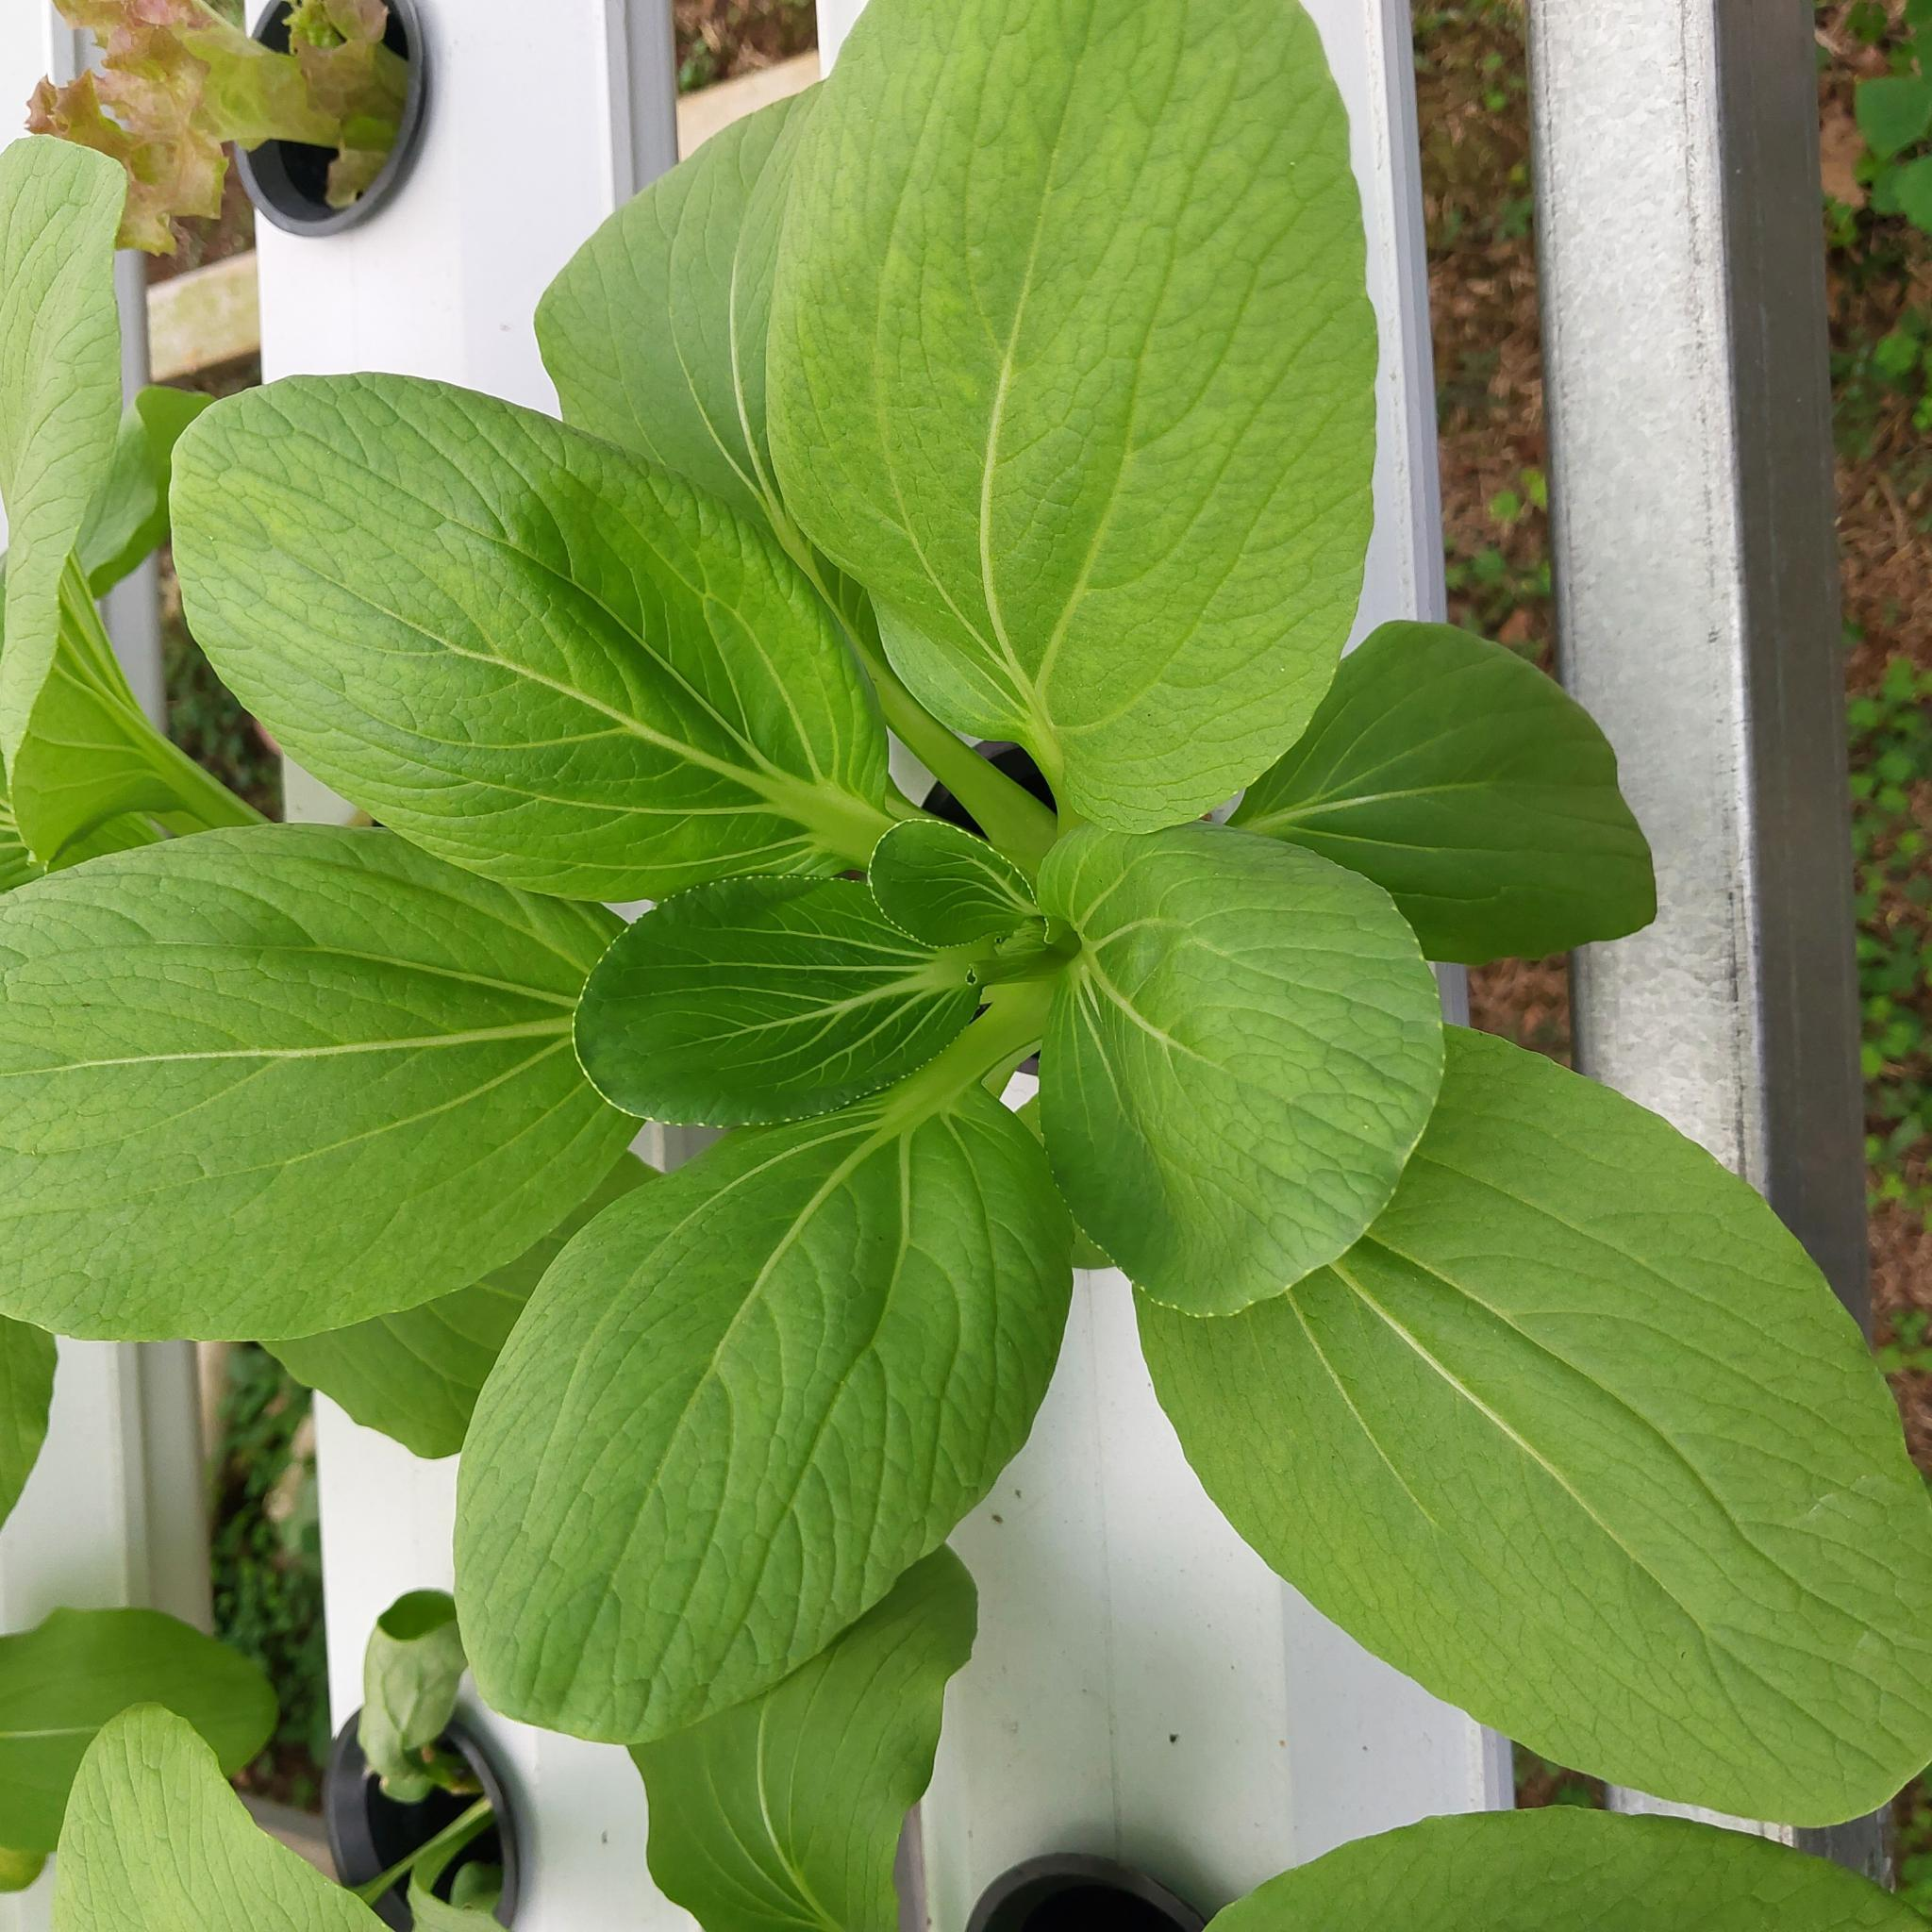Healthy-Pechay: (1138, 1017, 1932, 1831), (764, 0, 1304, 844), (159, 372, 941, 906), (464, 1047, 1030, 1753), (2, 867, 676, 1343), (984, 832, 1440, 1299), (533, 51, 862, 637), (1221, 623, 1672, 968), (0, 129, 168, 839), (571, 867, 1007, 1120), (2, 1603, 281, 1879), (205, 1345, 331, 1799), (57, 379, 212, 607), (16, 1024, 573, 1077), (0, 1306, 57, 1580)
